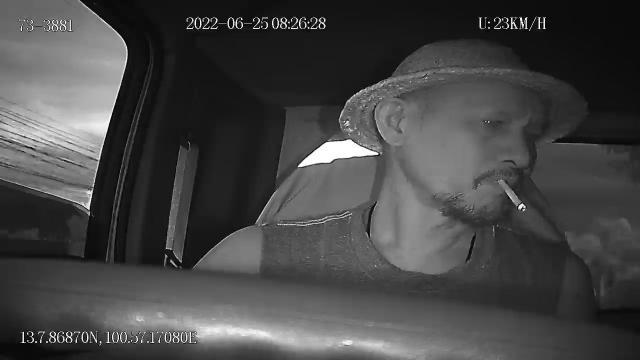SafeDriving: (465, 104, 515, 134)
Smoking: (498, 176, 524, 212)
